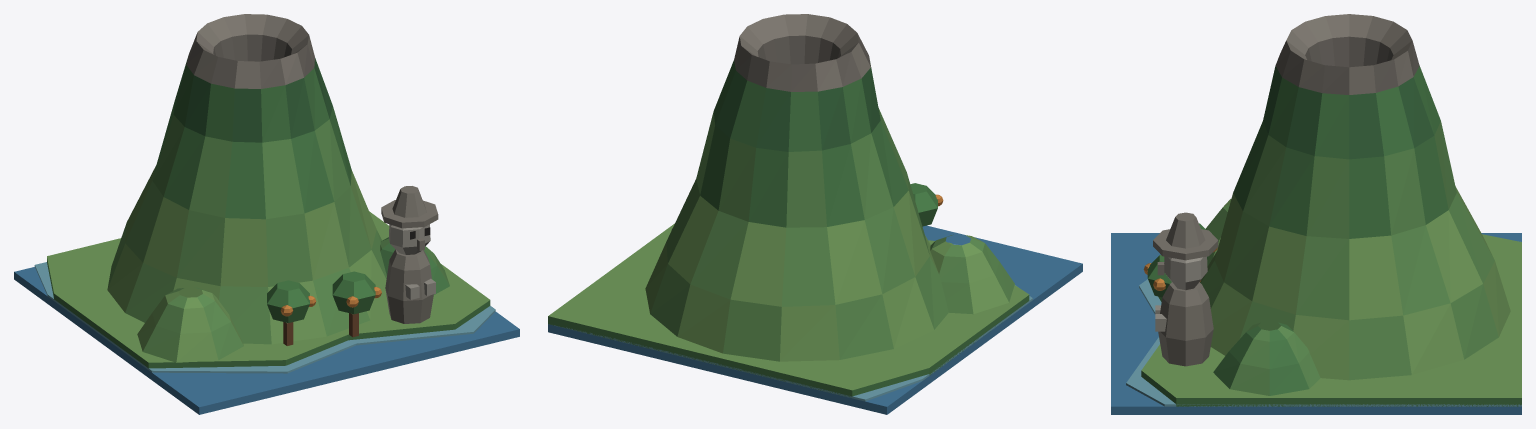
The model's file is hallasan.glb.
3 renders of one model, left to right at view 1: azimuth 30°, elevation 25°; view 2: azimuth 150°, elevation 25°; view 3: azimuth 270°, elevation 25°, orthographic. The views are drawn at different scales.
Visible parts, largest first — view 1: hallasan; view 2: hallasan; view 3: hallasan.
Boxes of the visible parts, bbox=[...] form: hallasan: bbox=[14, 14, 519, 414]; hallasan: bbox=[548, 14, 1082, 414]; hallasan: bbox=[1111, 14, 1521, 414].
Size of the model in its own units: 1.76 by 1.36 by 1.76.
